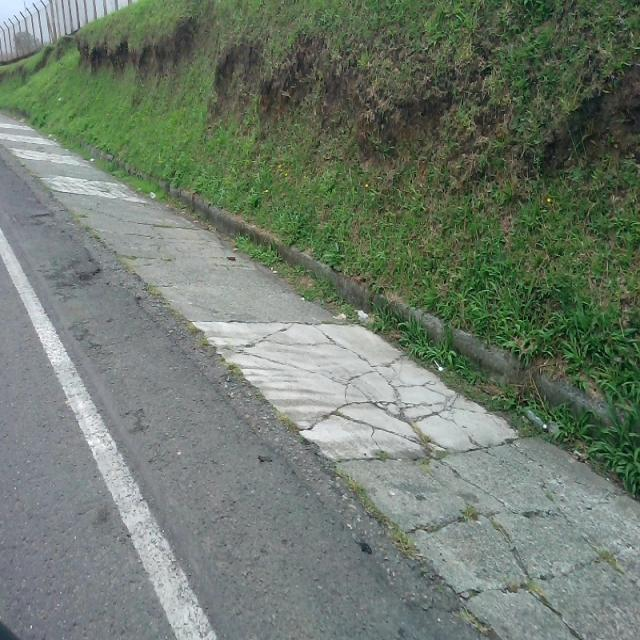DITCH: (1, 109, 638, 638)
